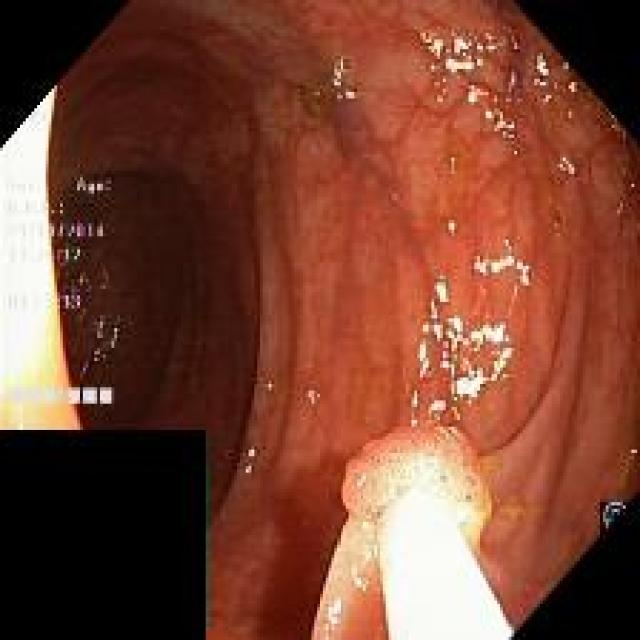Polyps: (314, 428, 510, 640)
